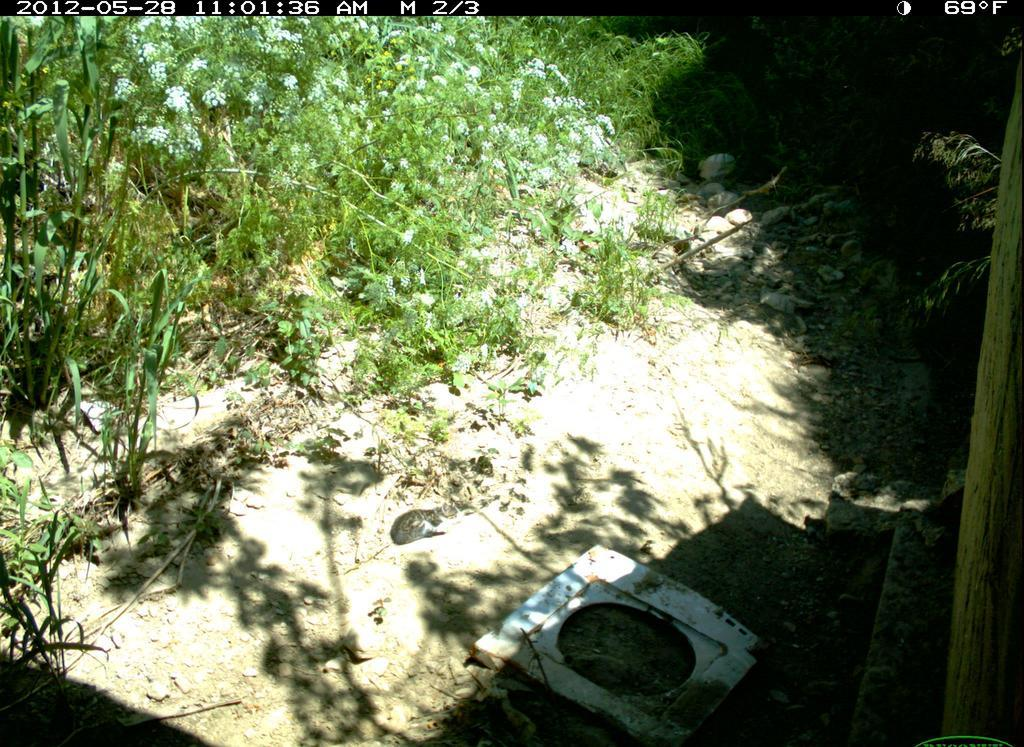cat: (389, 497, 452, 551)
